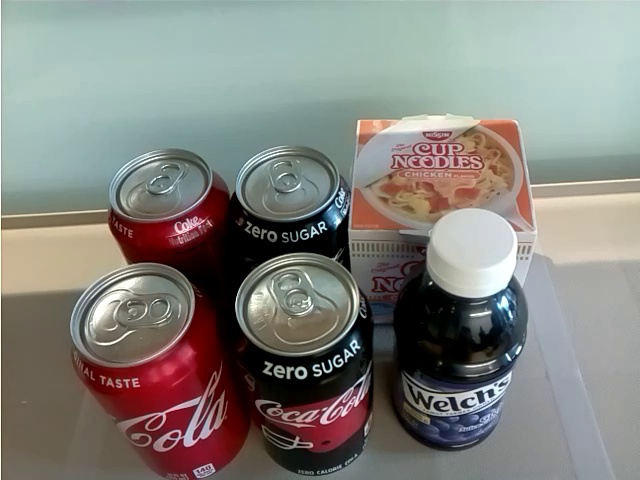cocacola: (65, 263, 249, 480), (233, 254, 375, 480), (107, 147, 229, 261), (229, 144, 351, 251)
juice: (389, 206, 529, 454)
noodles: (347, 114, 537, 331)
